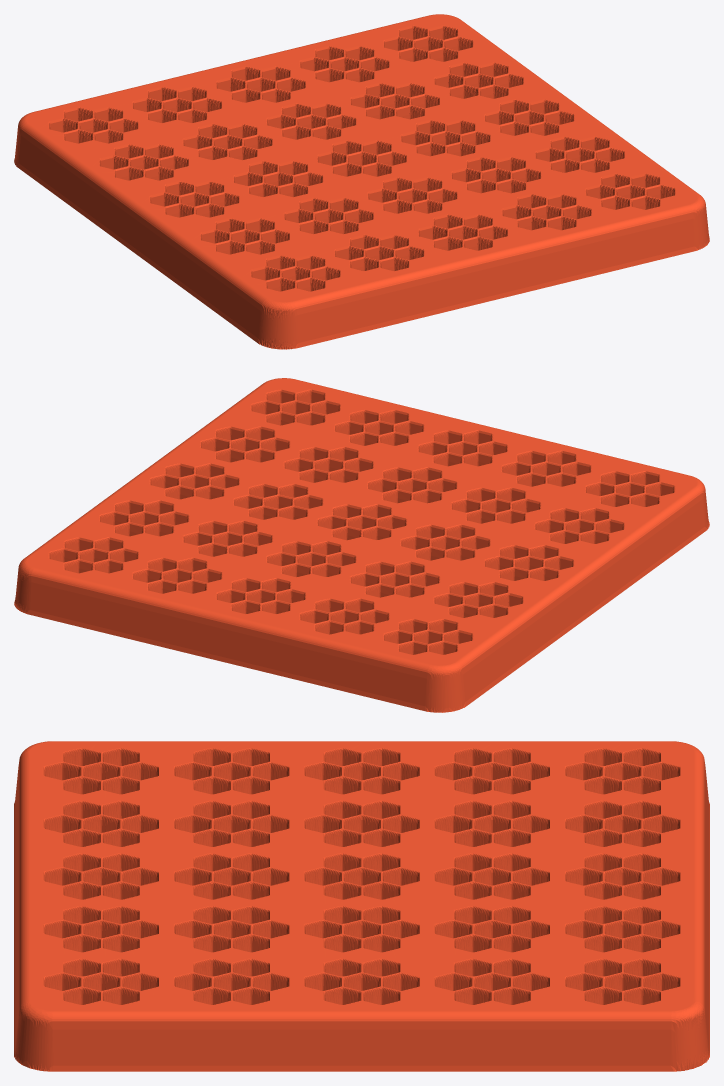
The model's file is mold.glb.
The picture shows the model from 3 angles, top to bottom: view 1: azimuth 30°, elevation 25°; view 2: azimuth 150°, elevation 25°; view 3: azimuth 270°, elevation 25°; orthographic projection. The views are drawn at different scales.
Parts seen in each view (by area): view 1: geometry_0; view 2: geometry_0; view 3: geometry_0.
Part boxes in pixels (x1,y1,x2,y2): geometry_0: (14, 14, 709, 349); geometry_0: (14, 378, 709, 712); geometry_0: (14, 741, 709, 1071).
Bounding box in the file's own units: 0.1519 × 0.0136 × 0.1584.
